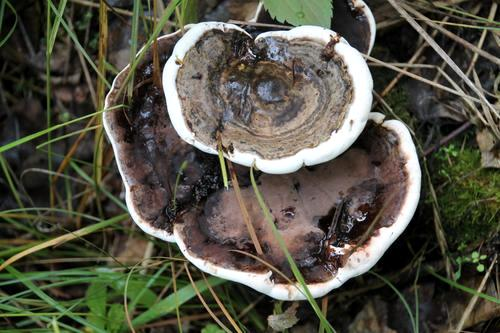Ganoderma - Fruit Body: (99, 17, 426, 302)
